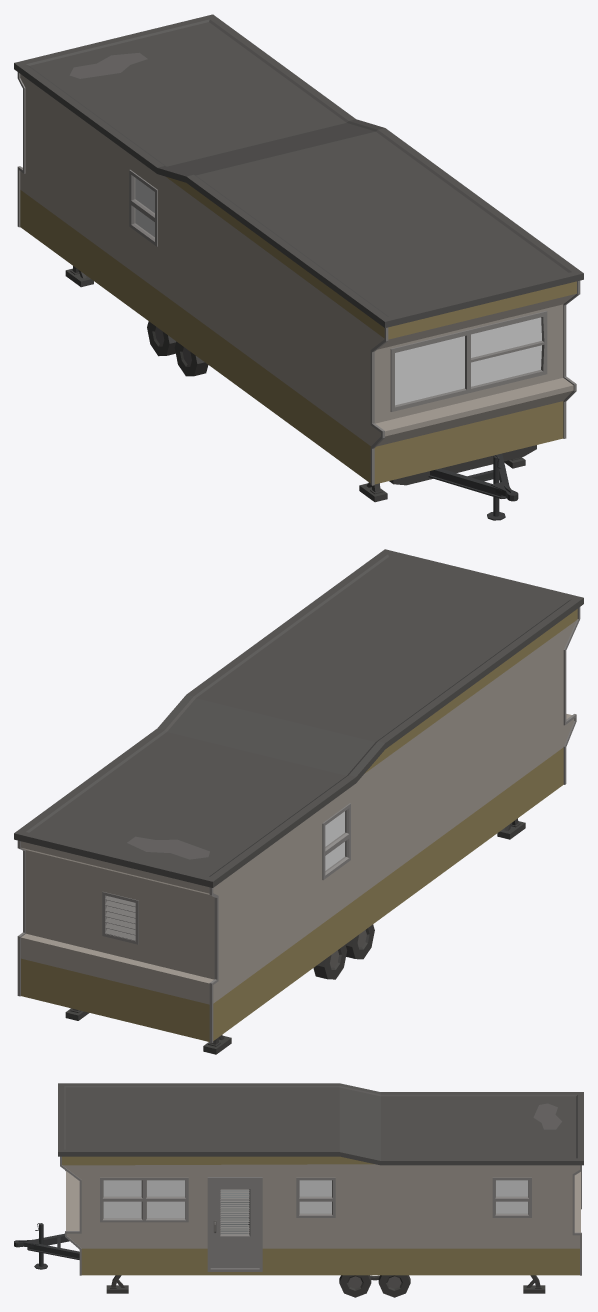
Rendered from SM_Bldg_Desert_MobileHome_02.fbx.
3 renders of one model, top to bottom at view 1: azimuth 30°, elevation 25°; view 2: azimuth 150°, elevation 25°; view 3: azimuth 270°, elevation 25°, orthographic. The views are drawn at different scales.
Visible parts, largest first — view 1: SM_Bldg_Desert_MobileHome_02, SM_Bldg_Desert_MobileHome_02_Glass; view 2: SM_Bldg_Desert_MobileHome_02, SM_Bldg_Desert_MobileHome_02_Glass; view 3: SM_Bldg_Desert_MobileHome_02, SM_Bldg_Desert_MobileHome_02_Glass, SM_Bldg_Desert_MobileHome_02_Interior.
Boxes of the visible parts, box(x1,y1,x2,y2) form: SM_Bldg_Desert_MobileHome_02: box(14, 14, 583, 520); SM_Bldg_Desert_MobileHome_02_Glass: box(135, 178, 541, 405); SM_Bldg_Desert_MobileHome_02: box(14, 549, 583, 1054); SM_Bldg_Desert_MobileHome_02_Glass: box(325, 811, 344, 870); SM_Bldg_Desert_MobileHome_02: box(14, 1083, 583, 1297); SM_Bldg_Desert_MobileHome_02_Glass: box(103, 1180, 528, 1218); SM_Bldg_Desert_MobileHome_02_Interior: box(221, 1190, 249, 1233).
Bounding box in the file's own units: 3.32 × 3.37 × 11.62.
